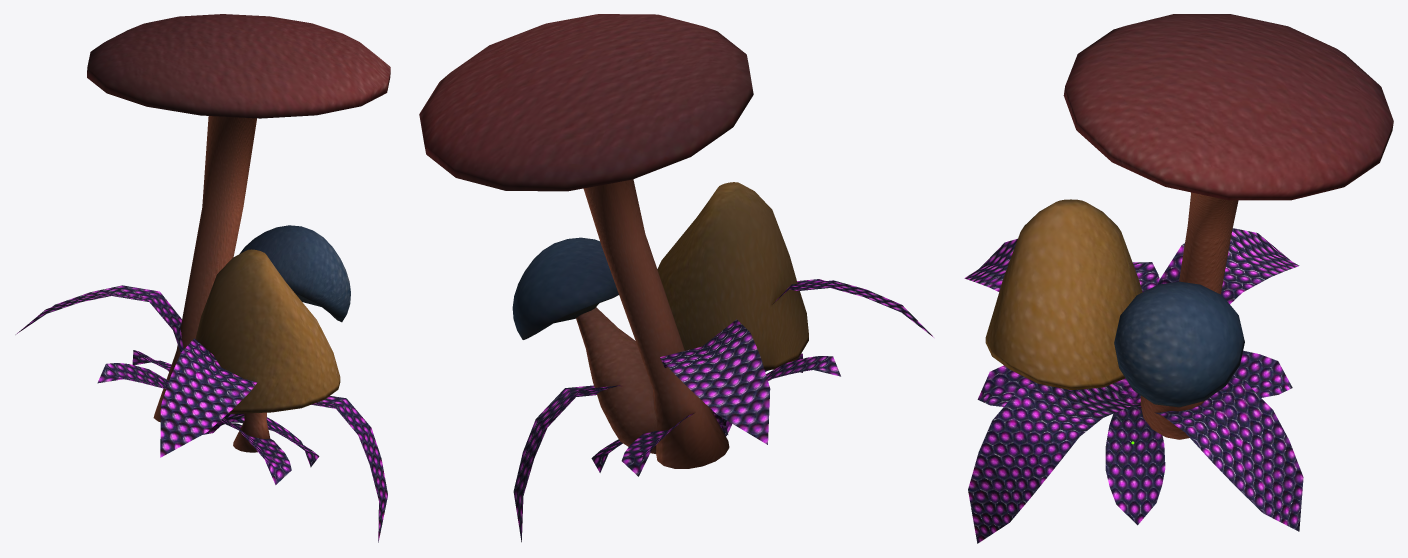
The model's file is track4Structure3.glb.
The picture shows the model from 3 angles, left to right: view 1: azimuth 30°, elevation 25°; view 2: azimuth 150°, elevation 25°; view 3: azimuth 270°, elevation 25°; orthographic projection. The views are drawn at different scales.
Parts seen in each view (by area): view 1: track4Structure3; view 2: track4Structure3; view 3: track4Structure3.
Boxes of the visible parts, box(x1,y1,x2,y2) form: track4Structure3: box(15, 14, 390, 542); track4Structure3: box(419, 14, 933, 542); track4Structure3: box(964, 14, 1393, 543).
Size of the model in its own units: 8.84 by 11.26 by 9.24.
3 materials, 1 textured.
